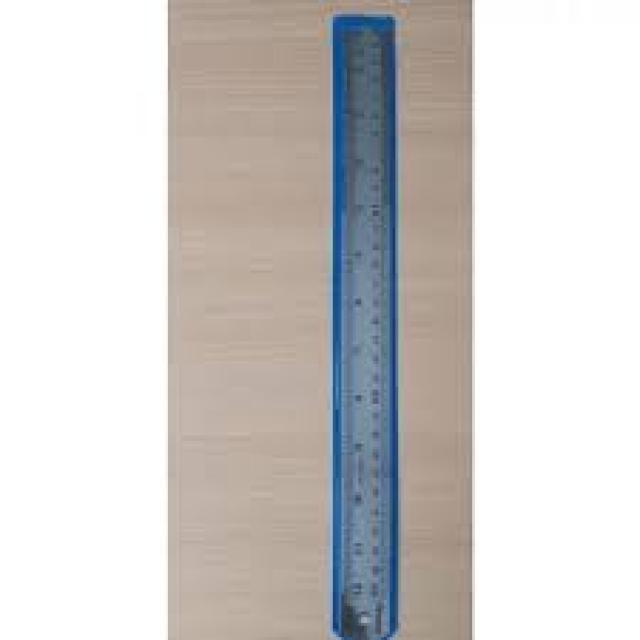Ruler: (341, 30, 389, 637)
